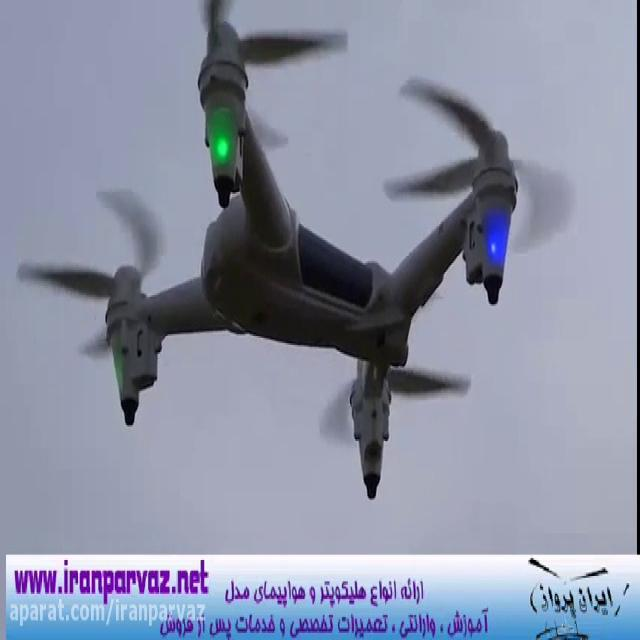drone: (13, 0, 578, 503)
